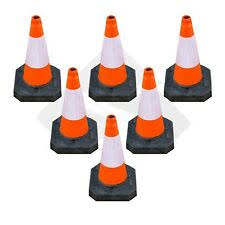cones: (90, 114, 141, 206), (88, 14, 137, 102), (126, 71, 176, 156), (14, 18, 63, 101), (168, 13, 211, 104)
